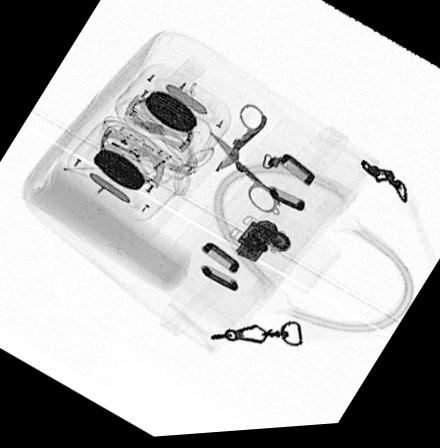Scissors: (205, 105, 281, 217)
